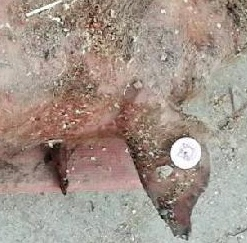text: (158, 129, 212, 182)
